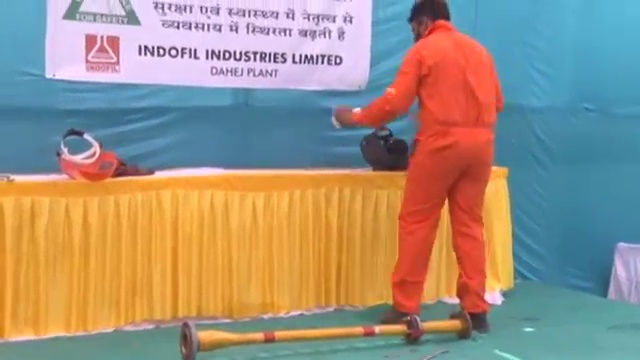helmet_off: (404, 1, 453, 41)
person: (332, 1, 505, 337)
